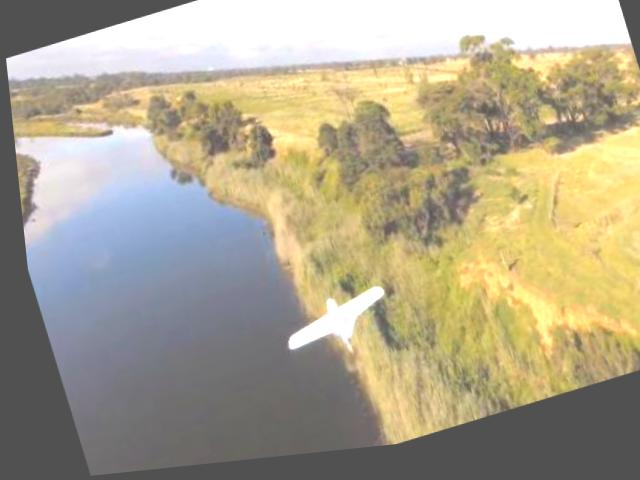uav: (266, 285, 392, 377)
